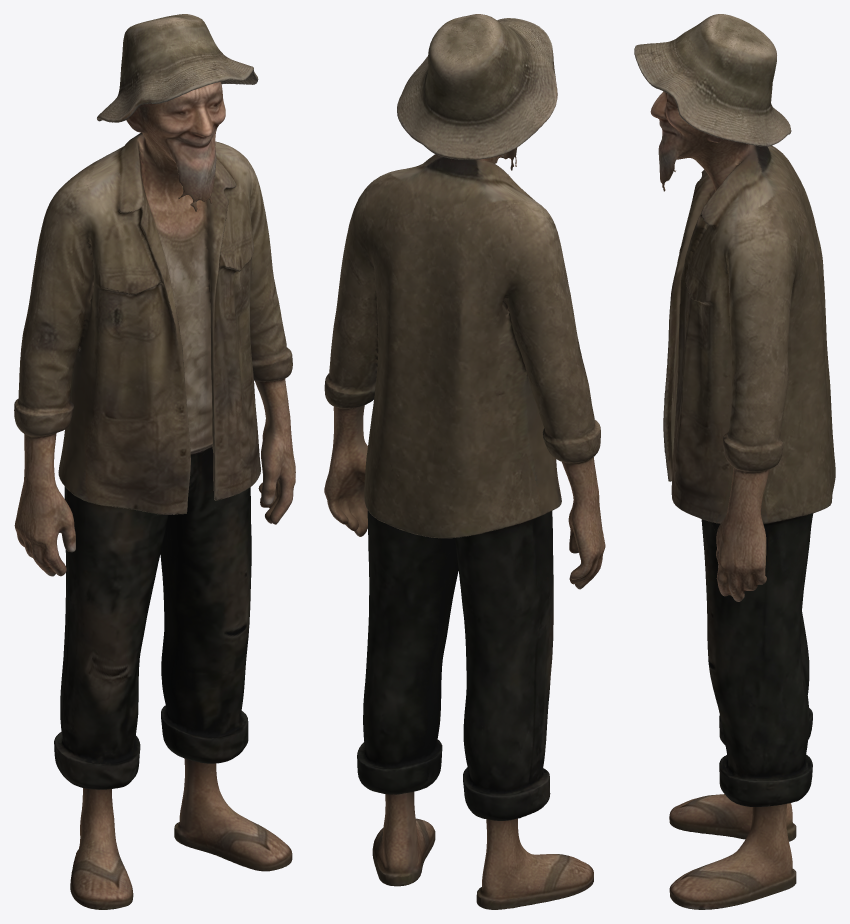
File: Model_Onghangxom_1003102048_texture.glb
3 renders of one model, left to right at view 1: azimuth 30°, elevation 25°; view 2: azimuth 150°, elevation 25°; view 3: azimuth 270°, elevation 25°, orthographic. The views are drawn at different scales.
Bounding box in the file's own units: 0.631 × 1.9 × 0.4129.
1 material, 1 textured.
